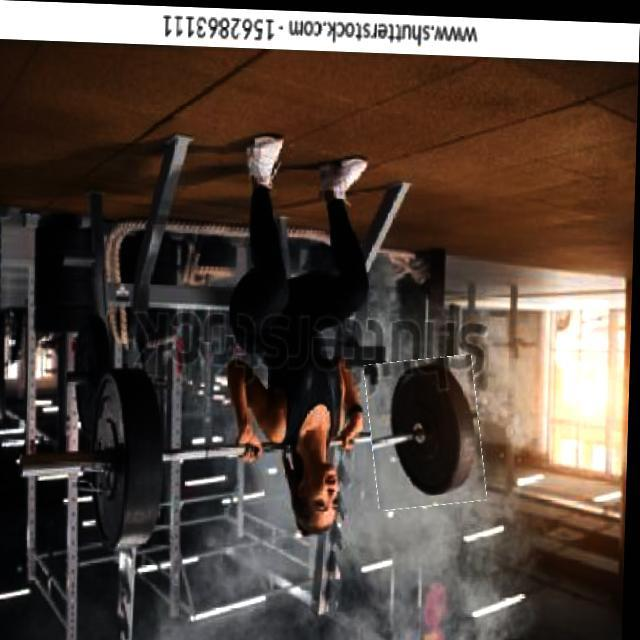barbell: (368, 352, 489, 508)
